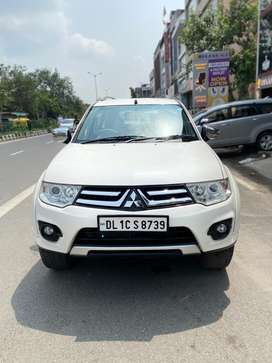DL1CS8739: (98, 217, 167, 233)
